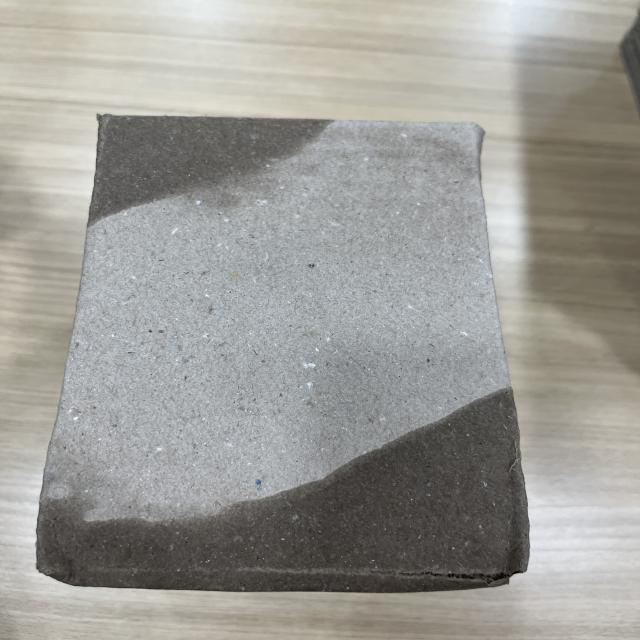wet: (37, 387, 528, 591), (85, 112, 340, 213)
